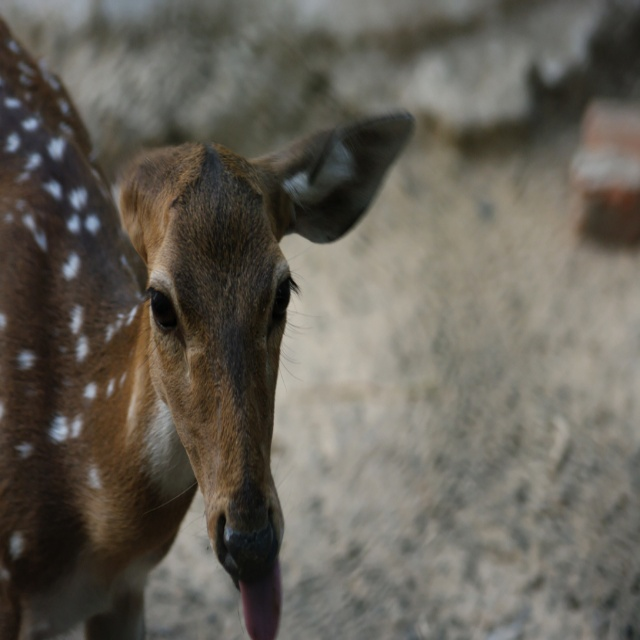Deer: (0, 15, 415, 639)
